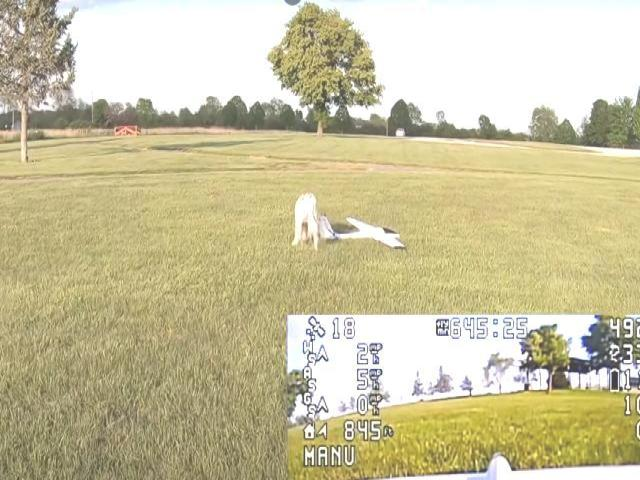iha: (317, 211, 409, 250)
